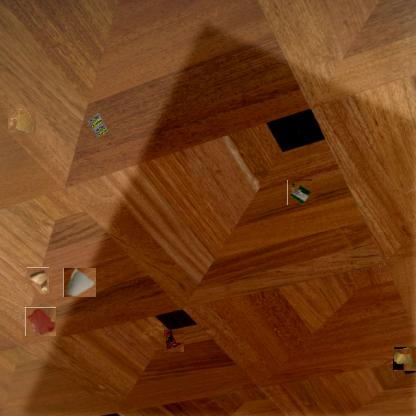dirty: (63, 267, 96, 297), (287, 180, 312, 206), (86, 113, 110, 139), (26, 269, 51, 293), (393, 347, 416, 370), (164, 330, 184, 352)
liquid: (26, 307, 56, 336), (9, 108, 35, 134)
